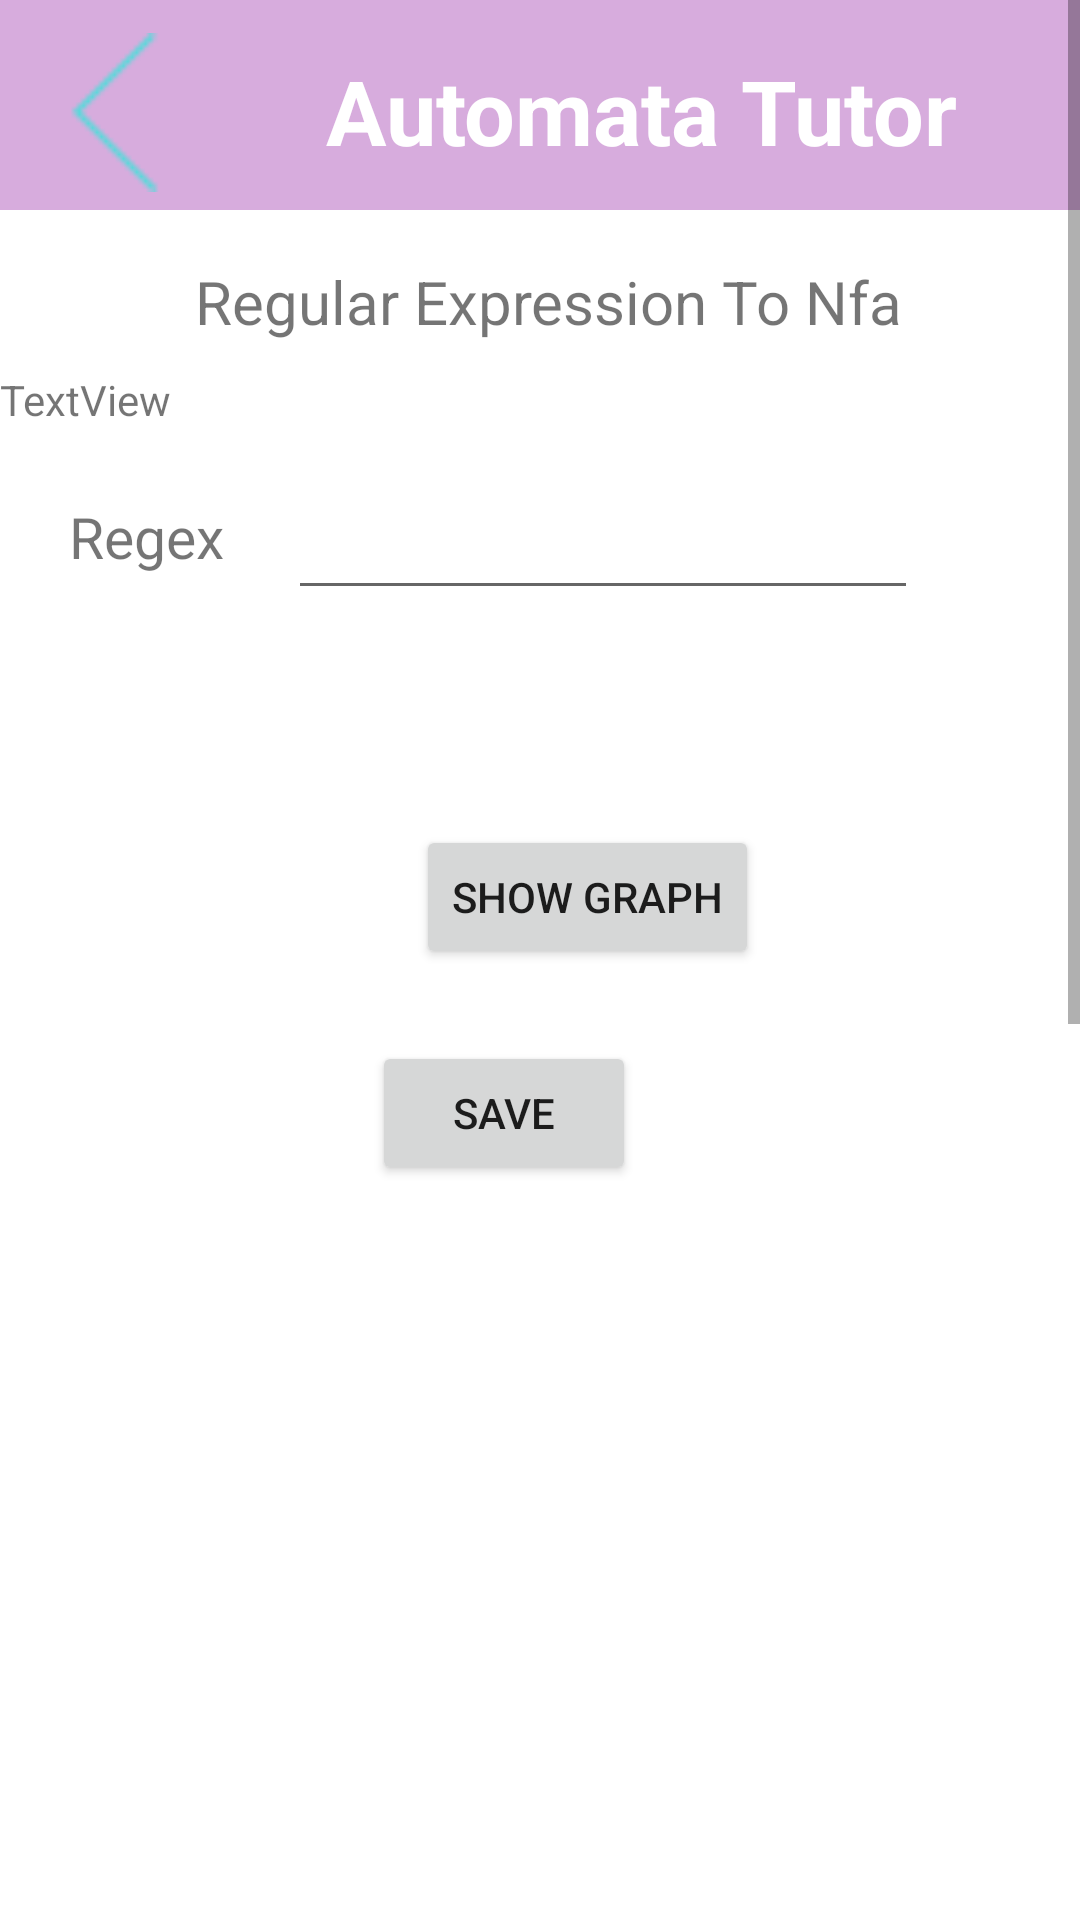

Point at icon controls on the screen. Image size 1080px x 1920px, points as [x,y].
backiconimg: [115,112]
